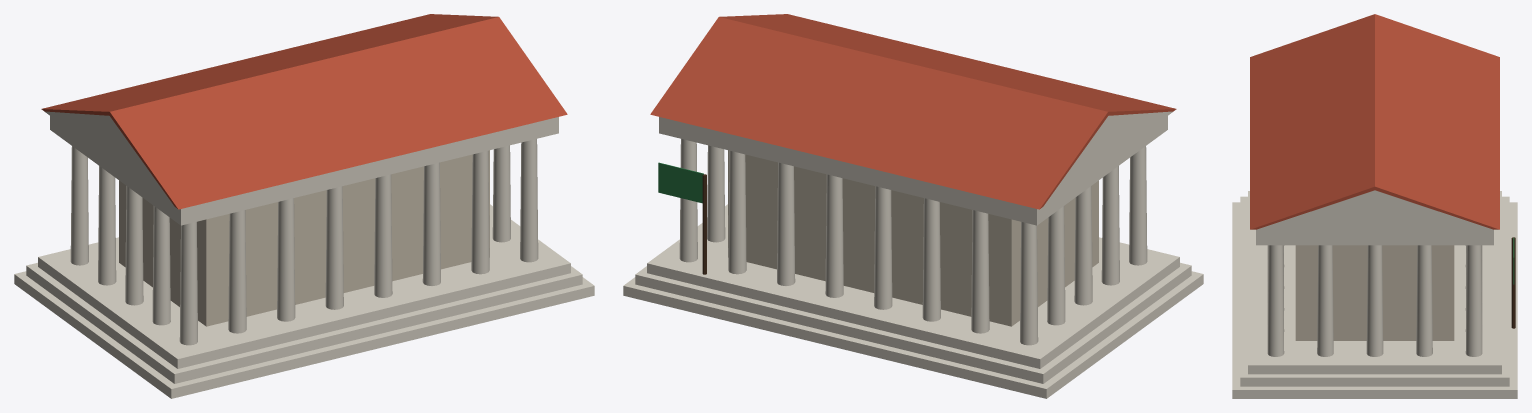
File: keep.glb
3 views of the same model, side by side, from view 1: azimuth 30°, elevation 25°; view 2: azimuth 150°, elevation 25°; view 3: azimuth 270°, elevation 25° (orthographic). The views are drawn at different scales.
Visible parts, largest first — view 1: Keep; view 2: Keep; view 3: Keep.
Part boxes in pixels (<box>): Keep: <box>14,14,594,398</box>; Keep: <box>623,14,1203,398</box>; Keep: <box>1232,14,1517,398</box>.
Size of the model in its own units: 22.4 by 11.4 by 14.4.
